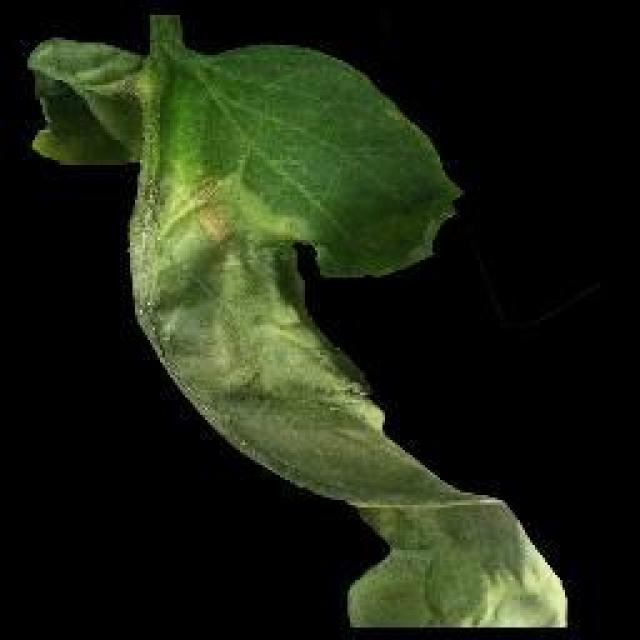Tomato late blight leaf: (22, 32, 570, 632)
